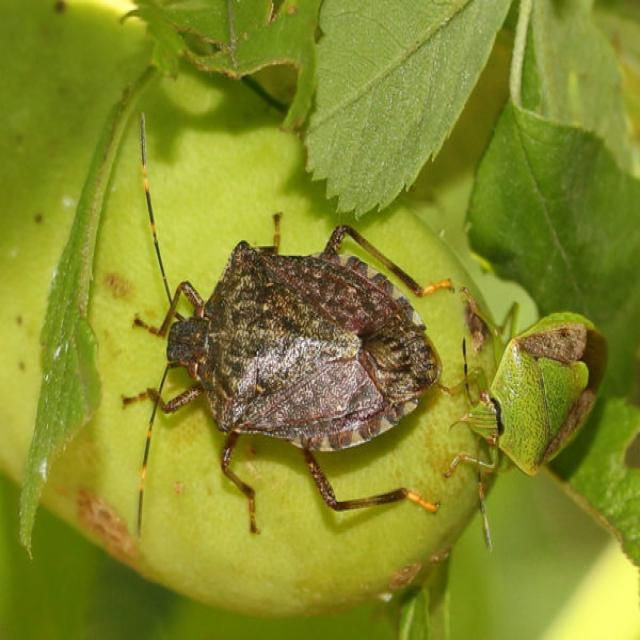stink_bug: (100, 99, 446, 569), (428, 274, 611, 542)
